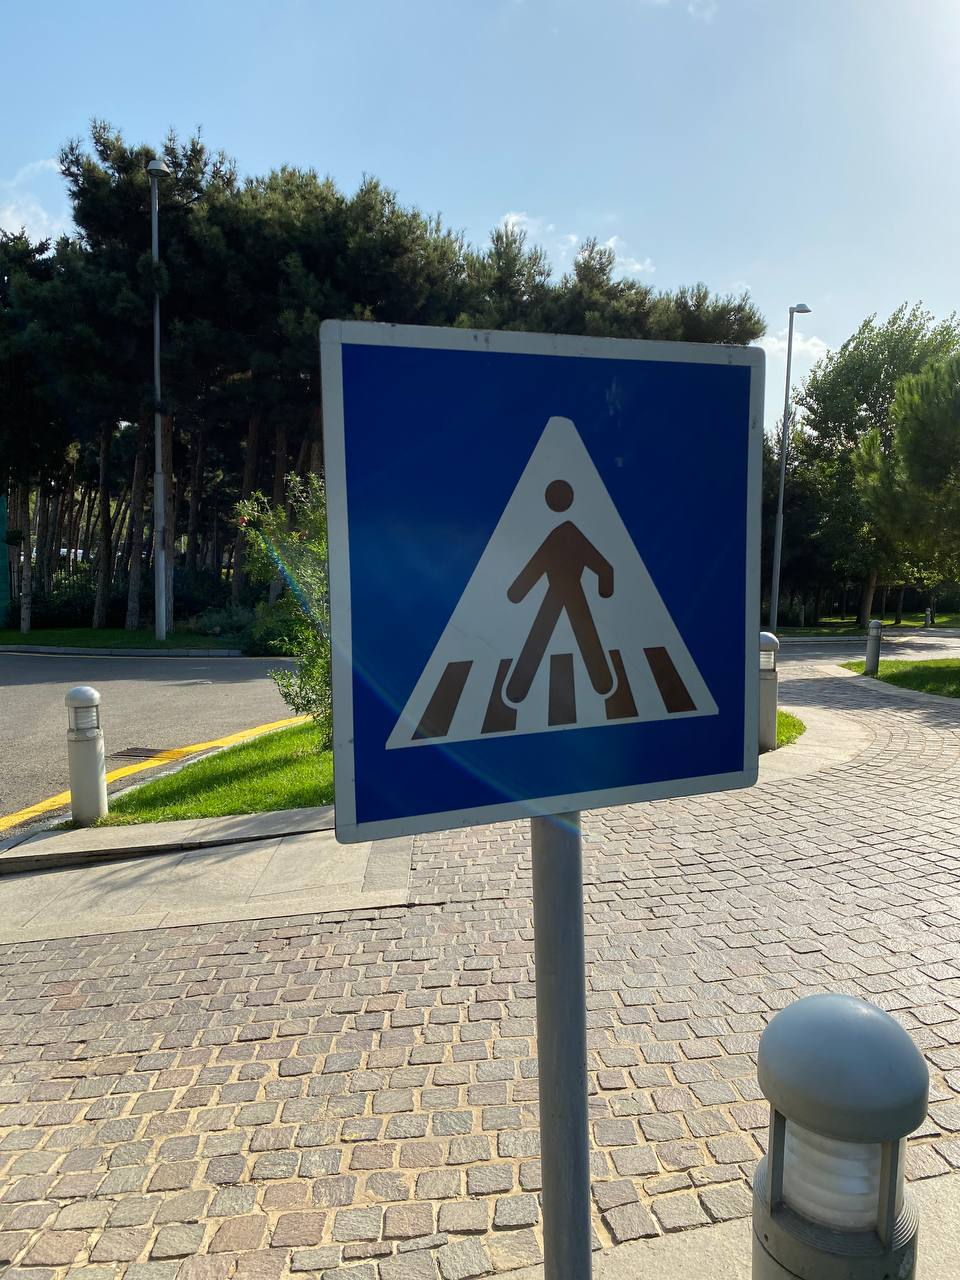Pedestrian Crossing: (311, 314, 761, 845)
